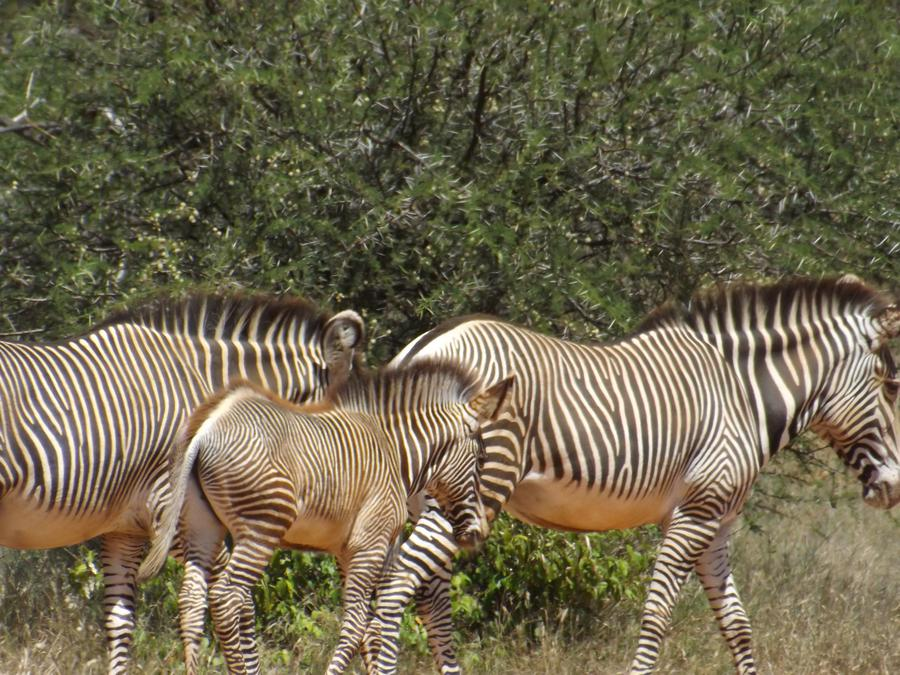zebra_grevys: (2, 318, 168, 514)
